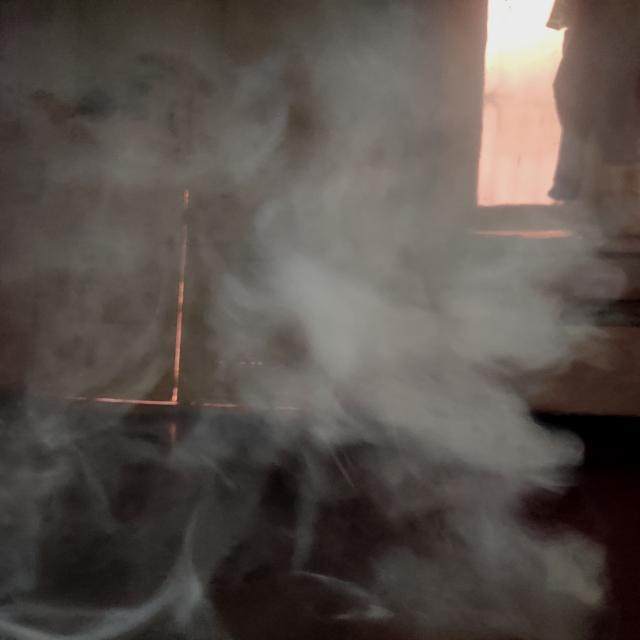smoke: (117, 54, 578, 552)
